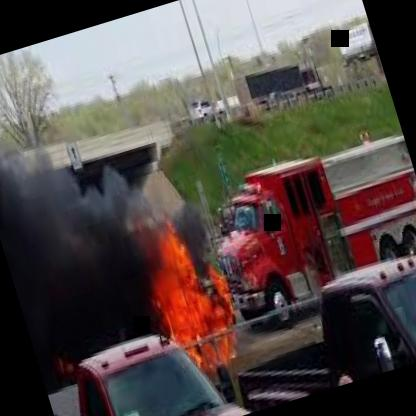fire: (64, 175, 257, 416)
